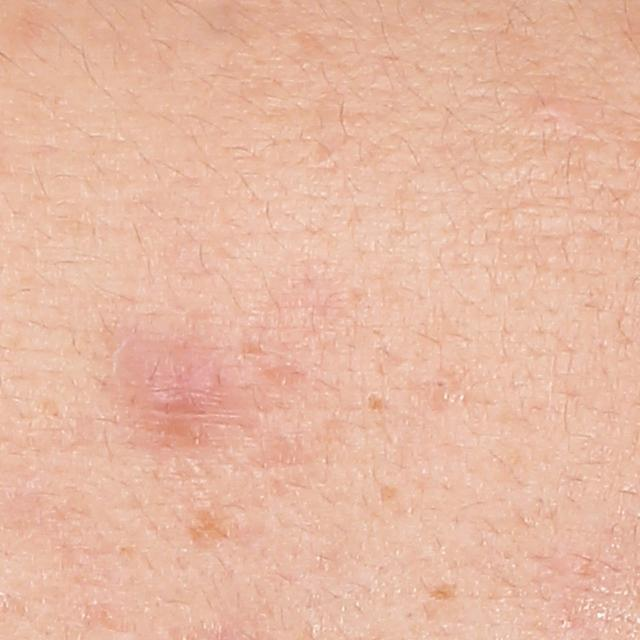atrophic_scar: (240, 254, 346, 394), (365, 349, 413, 414)
papule: (142, 360, 210, 426)
